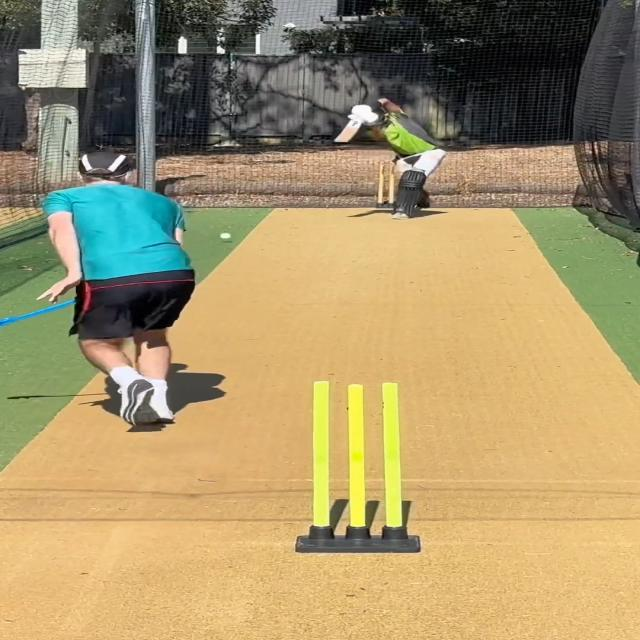ball: (218, 232, 232, 240)
stump: (299, 378, 421, 554), (377, 160, 401, 209)
